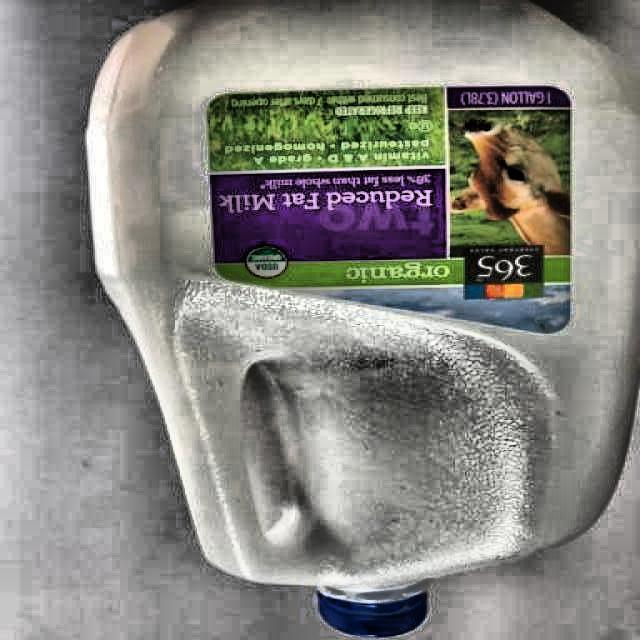plastic: (88, 1, 640, 633)
